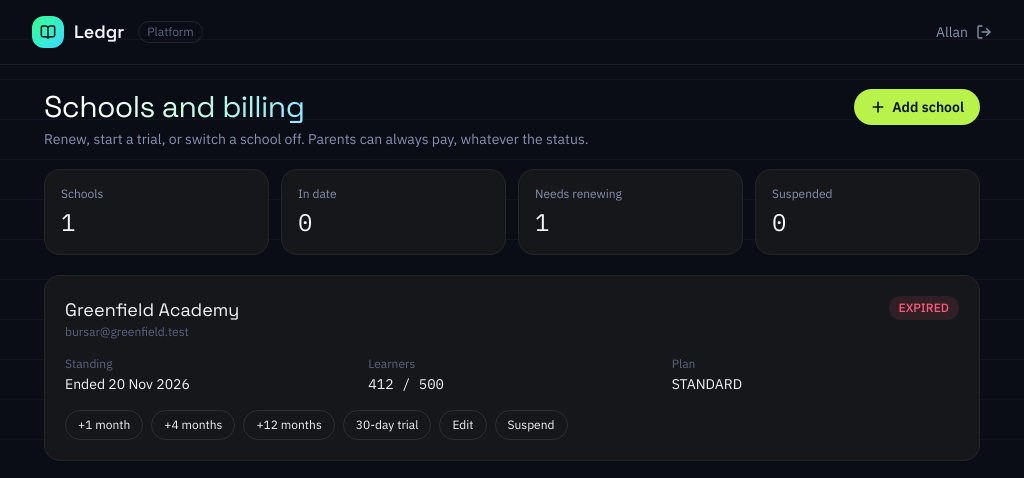
PlatformPage › renewing sends the months and shows the result straight away
The width and height of the screenshot is (1024, 478).
Expected: the heading "Greenfield Academy" is shown, [65,296,239,324]
Click the button "+4 months". click: coordinates (193, 425)
box: [151,410,235,440]
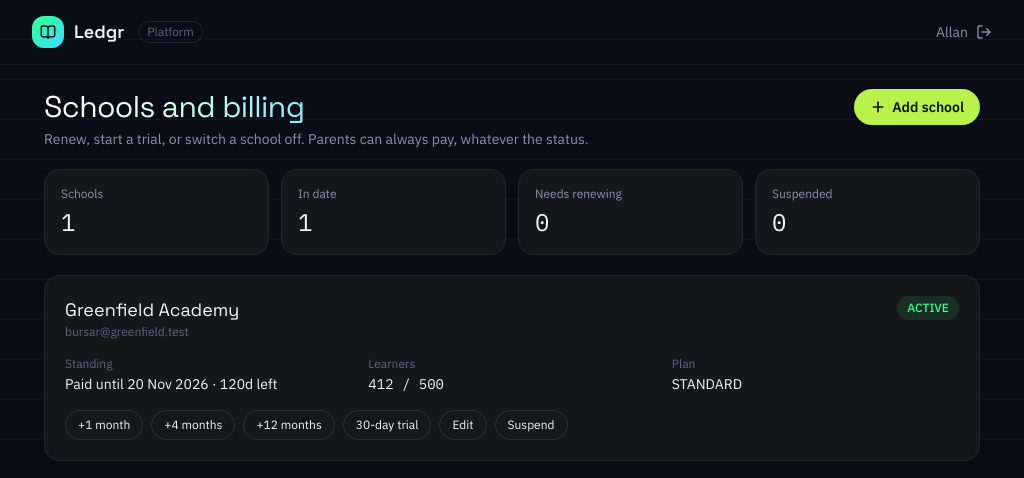
Now the text "ACTIVE" is shown, box [897,296,959,320]
